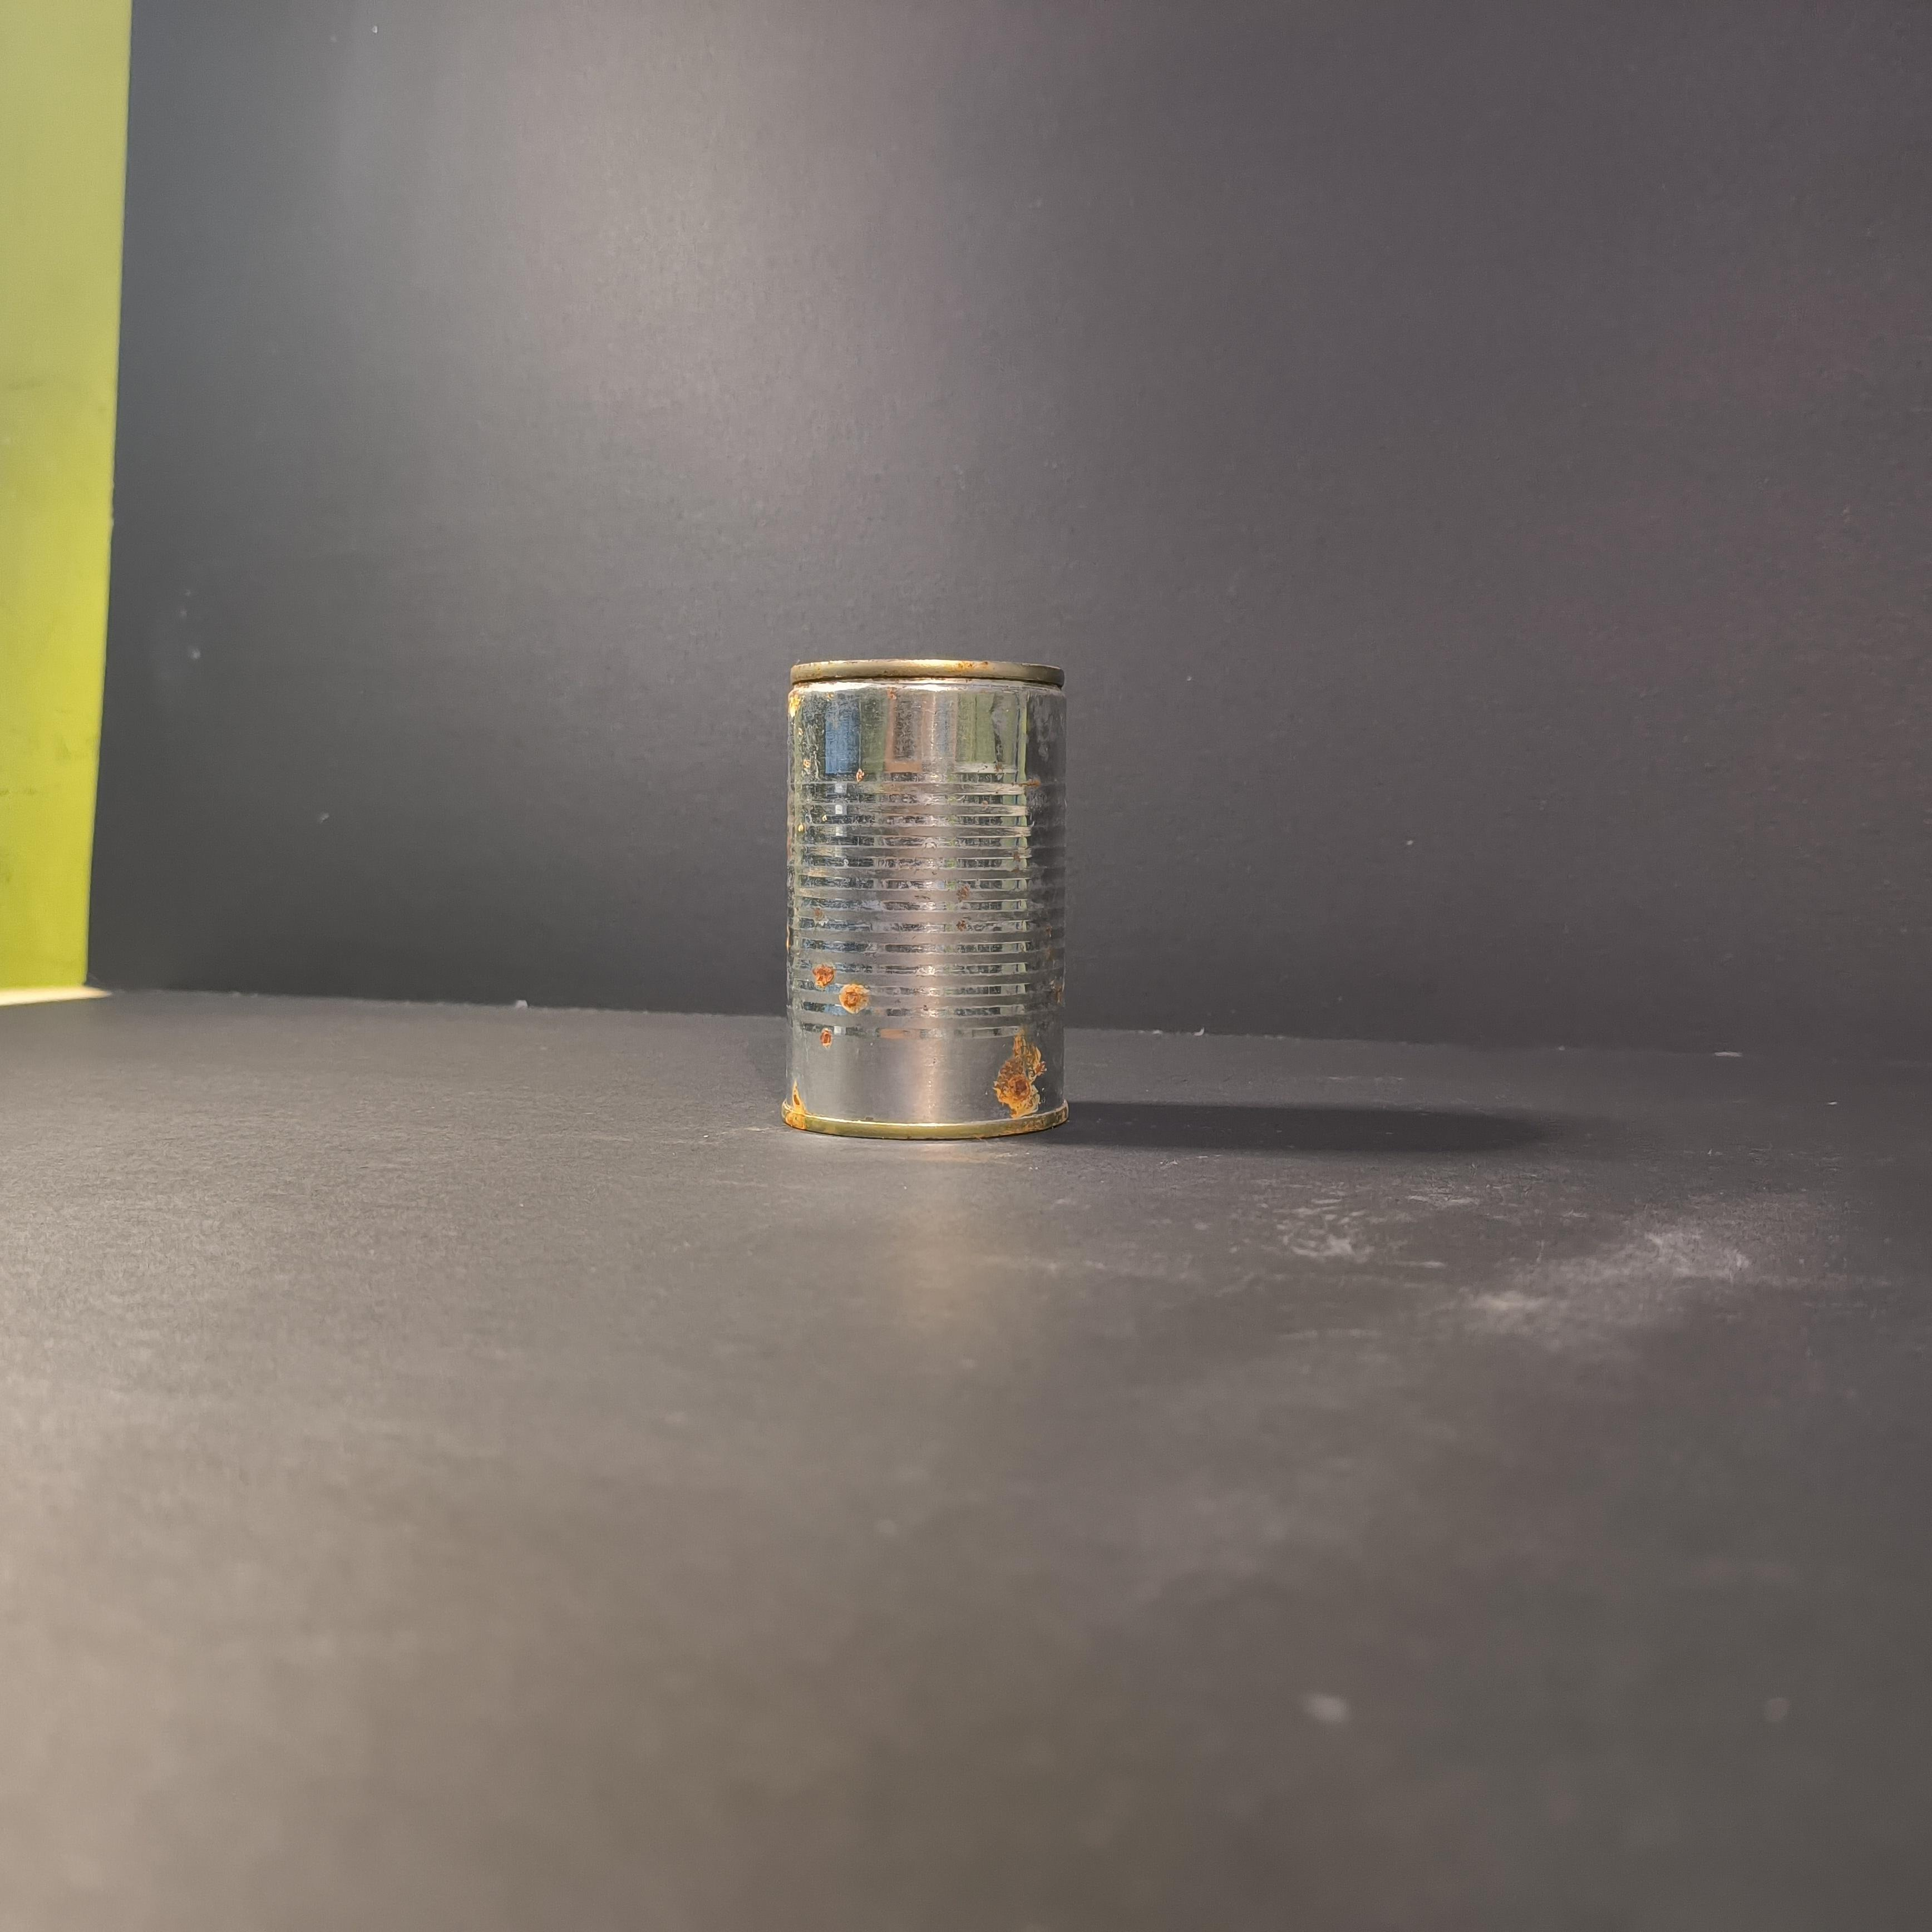Rusted: (751, 629, 1085, 1166)
